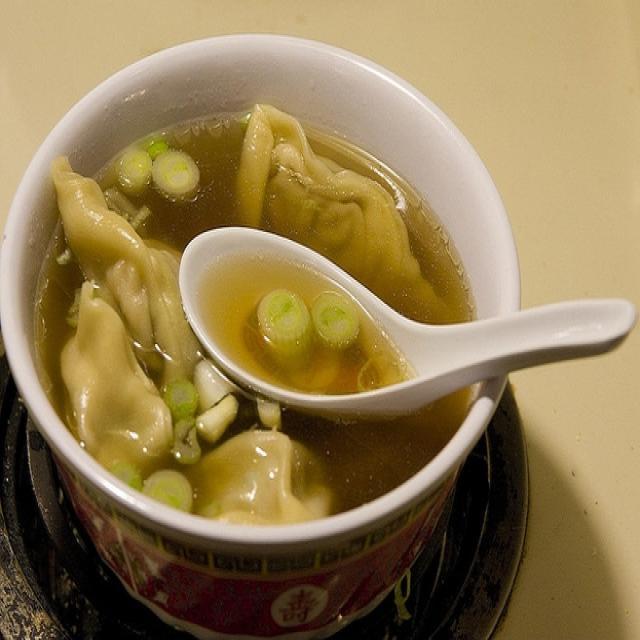汤锅炖物: (28, 58, 518, 554)
